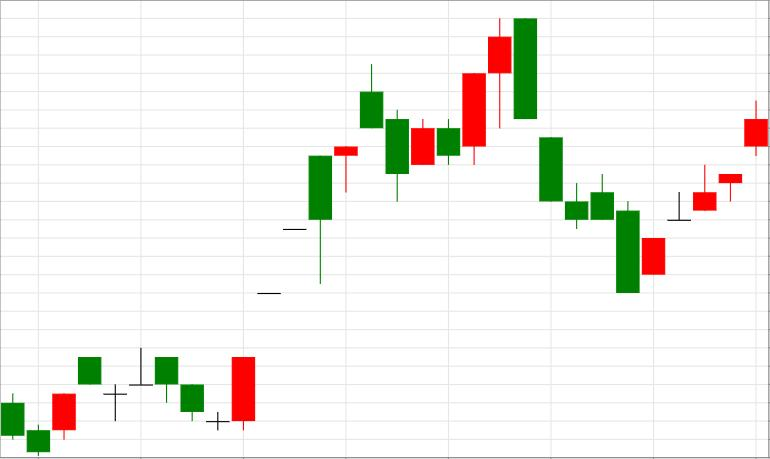morning_star_rise: (129, 345, 255, 432)
